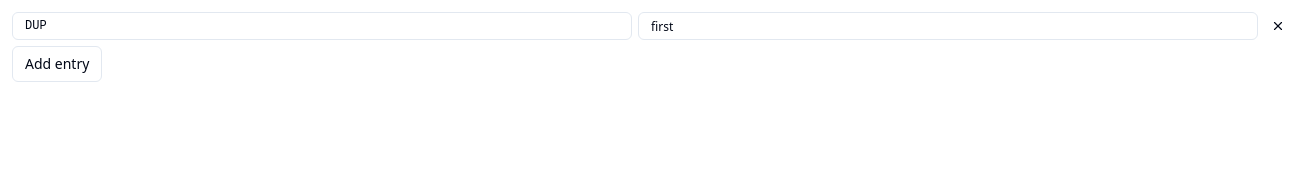
Test case: KeyValueEditor › flags duplicate keys with destructive style + inline warning
// Add a second row + type the same key into it.
Click the button "Add entry".
click(57, 64)  # box [12, 46, 102, 82]
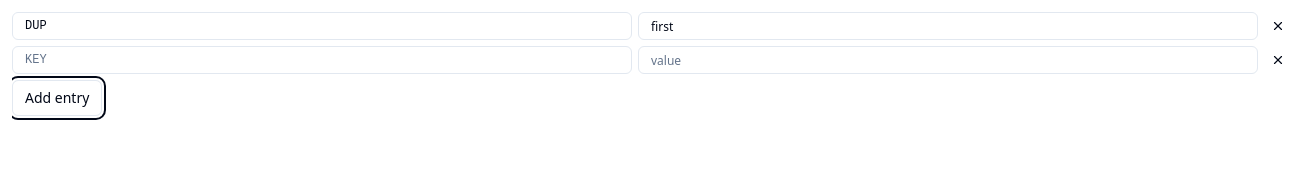
Type "DUP" into the field with placeholder "KEY".
click(322, 60); type("DUP")  # box [12, 46, 632, 74]
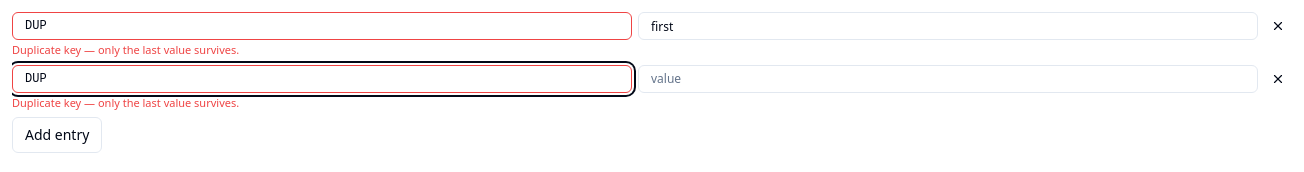
Now the number of fields showing "DUP" is 2, box [12, 12, 632, 40]; [12, 64, 632, 92]
Now the text "Duplicate key — only the last value survives." is shown 2 times, box [12, 42, 239, 57]; [12, 94, 239, 110]
